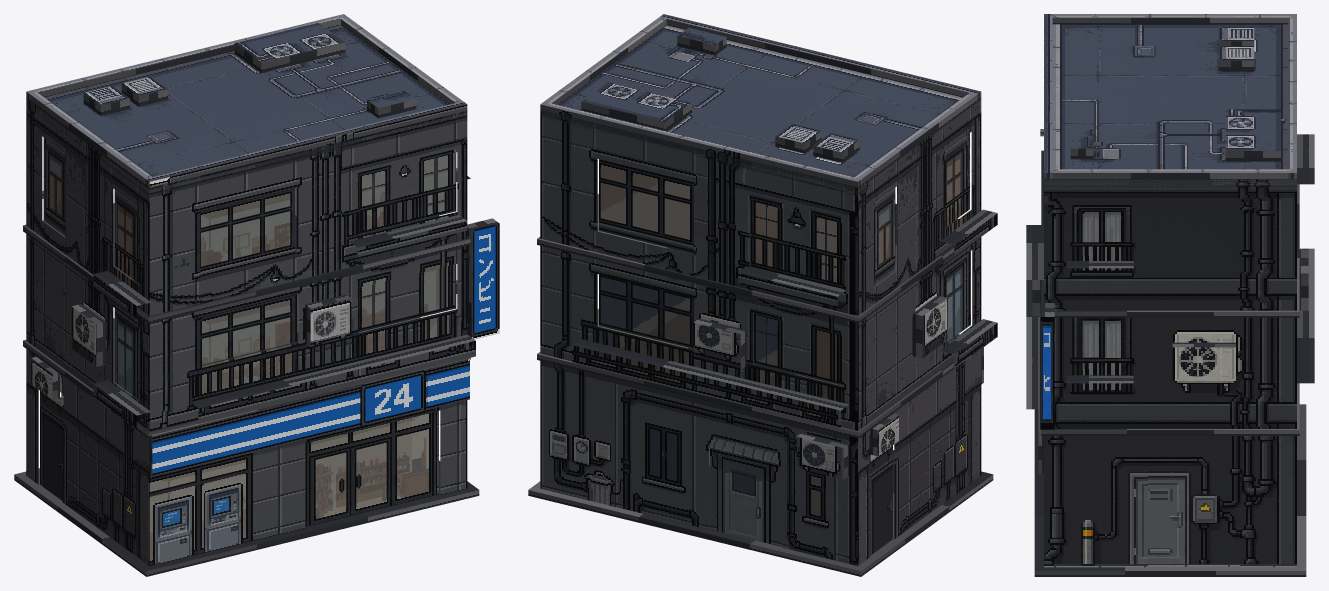
The model's file is convenience_24.glb.
3 views of the same model, side by side, from view 1: azimuth 30°, elevation 25°; view 2: azimuth 150°, elevation 25°; view 3: azimuth 270°, elevation 25° (orthographic). The views are drawn at different scales.
Visible parts, largest first — view 1: front_Floor1, front_Floor3, front_Floor2, RoofDeck, left_Floor1, left_Floor3, left_Floor2, front_Balcony_152, Foundation, FloorBelt_4.0, BladeSign, ParapetFront (+13 smaller); view 2: back_Floor1, back_Floor3, back_Floor2, RoofDeck, left_Floor1, left_Floor3, left_Floor2, back_Balcony_153, Foundation, FloorBelt_4.0, ParapetBack, ParapetFront (+12 smaller); view 3: right_Floor1, right_Floor3, RoofDeck, right_Floor2, Foundation, RoofEquipment_2, ParapetRight, FloorBelt_4.0, ParapetLeft, FloorBelt_2.2, BladeSign, back_Balcony_153 (+13 smaller).
Part boxes in pixels (bbox=[...]): front_Floor1: bbox=[149, 359, 469, 565]; front_Floor3: bbox=[149, 111, 467, 315]; front_Floor2: bbox=[149, 245, 467, 430]; RoofDeck: bbox=[28, 25, 466, 195]; left_Floor1: bbox=[26, 349, 149, 565]; left_Floor3: bbox=[26, 98, 149, 315]; left_Floor2: bbox=[26, 234, 149, 430]; front_Balcony_152: bbox=[190, 334, 475, 423]; Foundation: bbox=[14, 460, 479, 576]; FloorBelt_4.0: bbox=[23, 188, 470, 322]; BladeSign: bbox=[467, 218, 499, 339]; ParapetFront: bbox=[145, 101, 467, 189]; back_Floor1: bbox=[540, 361, 857, 565]; back_Floor3: bbox=[540, 111, 857, 315]; back_Floor2: bbox=[540, 245, 857, 430]; RoofDeck: bbox=[540, 25, 962, 195]; left_Floor1: bbox=[858, 349, 981, 565]; left_Floor3: bbox=[858, 98, 981, 315]; left_Floor2: bbox=[858, 237, 981, 430]; back_Balcony_153: bbox=[572, 339, 848, 428]; Foundation: bbox=[528, 443, 993, 576]; FloorBelt_4.0: bbox=[537, 194, 958, 323]; ParapetBack: bbox=[540, 101, 861, 188]; ParapetFront: bbox=[660, 14, 981, 100]; right_Floor1: bbox=[1044, 436, 1296, 567]; right_Floor3: bbox=[1044, 179, 1296, 310]; RoofDeck: bbox=[1044, 24, 1296, 187]; right_Floor2: bbox=[1054, 317, 1296, 428]; Foundation: bbox=[1034, 404, 1306, 576]; RoofEquipment_2: bbox=[1225, 109, 1280, 161]; ParapetRight: bbox=[1052, 169, 1288, 181]; FloorBelt_4.0: bbox=[1041, 150, 1299, 317]; ParapetLeft: bbox=[1052, 14, 1288, 24]; FloorBelt_2.2: bbox=[1041, 375, 1299, 435]; BladeSign: bbox=[1040, 303, 1054, 429]; back_Balcony_153: bbox=[1297, 248, 1314, 383].
Size of the model in its own units: 5.94 by 6.18 by 3.98.
12 materials, 12 textured.
